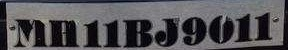character: (14, 17, 47, 48), (122, 18, 153, 48), (49, 18, 79, 48), (180, 16, 207, 47), (208, 14, 234, 45), (154, 17, 180, 47), (253, 11, 274, 42), (101, 19, 122, 49), (233, 13, 253, 43), (82, 19, 101, 49)
